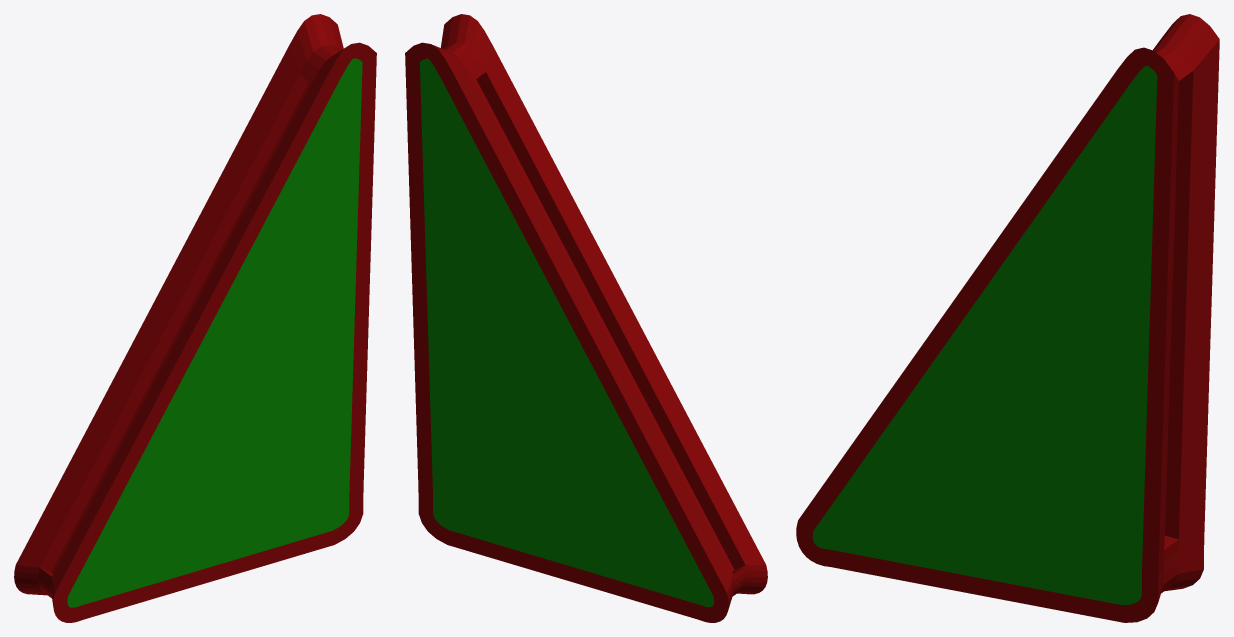
The model's file is Butoir.obj.
3 views of the same model, side by side, from view 1: azimuth 30°, elevation 25°; view 2: azimuth 150°, elevation 25°; view 3: azimuth 330°, elevation 25° (orthographic). The views are drawn at different scales.
Visible parts, largest first — view 1: Cube_Cube.002; view 2: Cube_Cube.002; view 3: Cube_Cube.002.
Boxes of the visible parts, x1=… form: Cube_Cube.002: x1=14, y1=14, x2=376, y2=622; Cube_Cube.002: x1=405, y1=14, x2=767, y2=622; Cube_Cube.002: x1=796, y1=14, x2=1219, y2=622.
Bounding box in the file's own units: 48.1 × 72.58 × 10.08.
